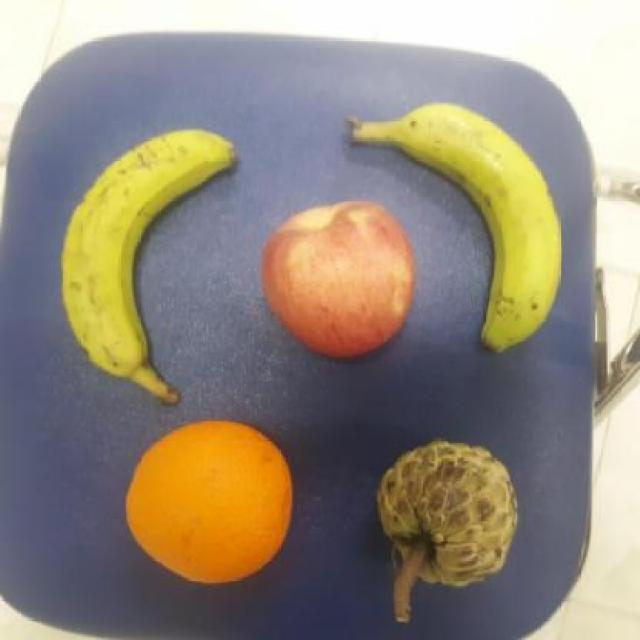apple: (260, 198, 415, 358)
banana: (346, 104, 562, 356), (61, 129, 238, 406)
oren: (125, 420, 293, 583)
sugar apple: (374, 437, 518, 586)
